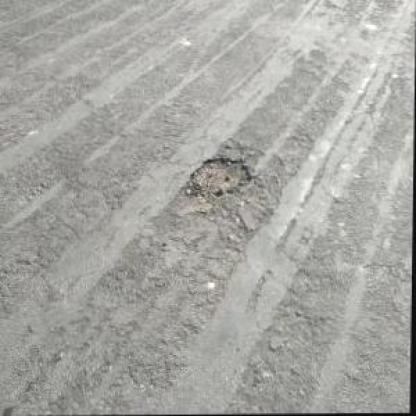pothole: (186, 155, 255, 197)
